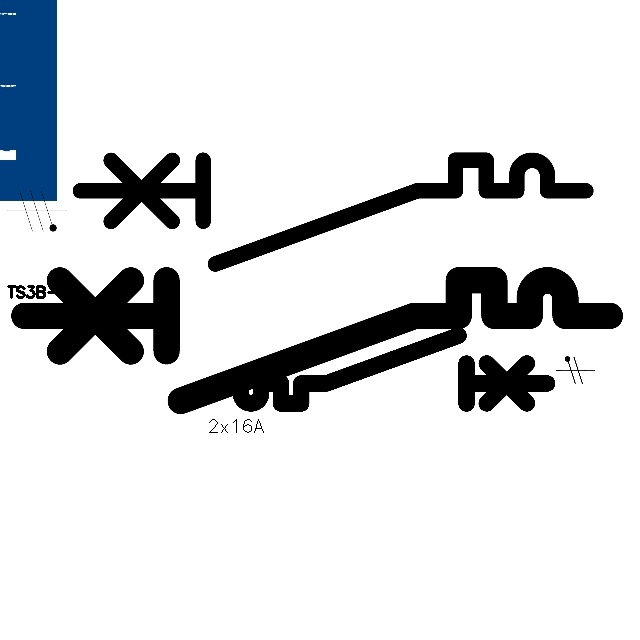interruptor_termomagnetico: (9, 265, 625, 416), (67, 147, 598, 277), (207, 327, 556, 412)
